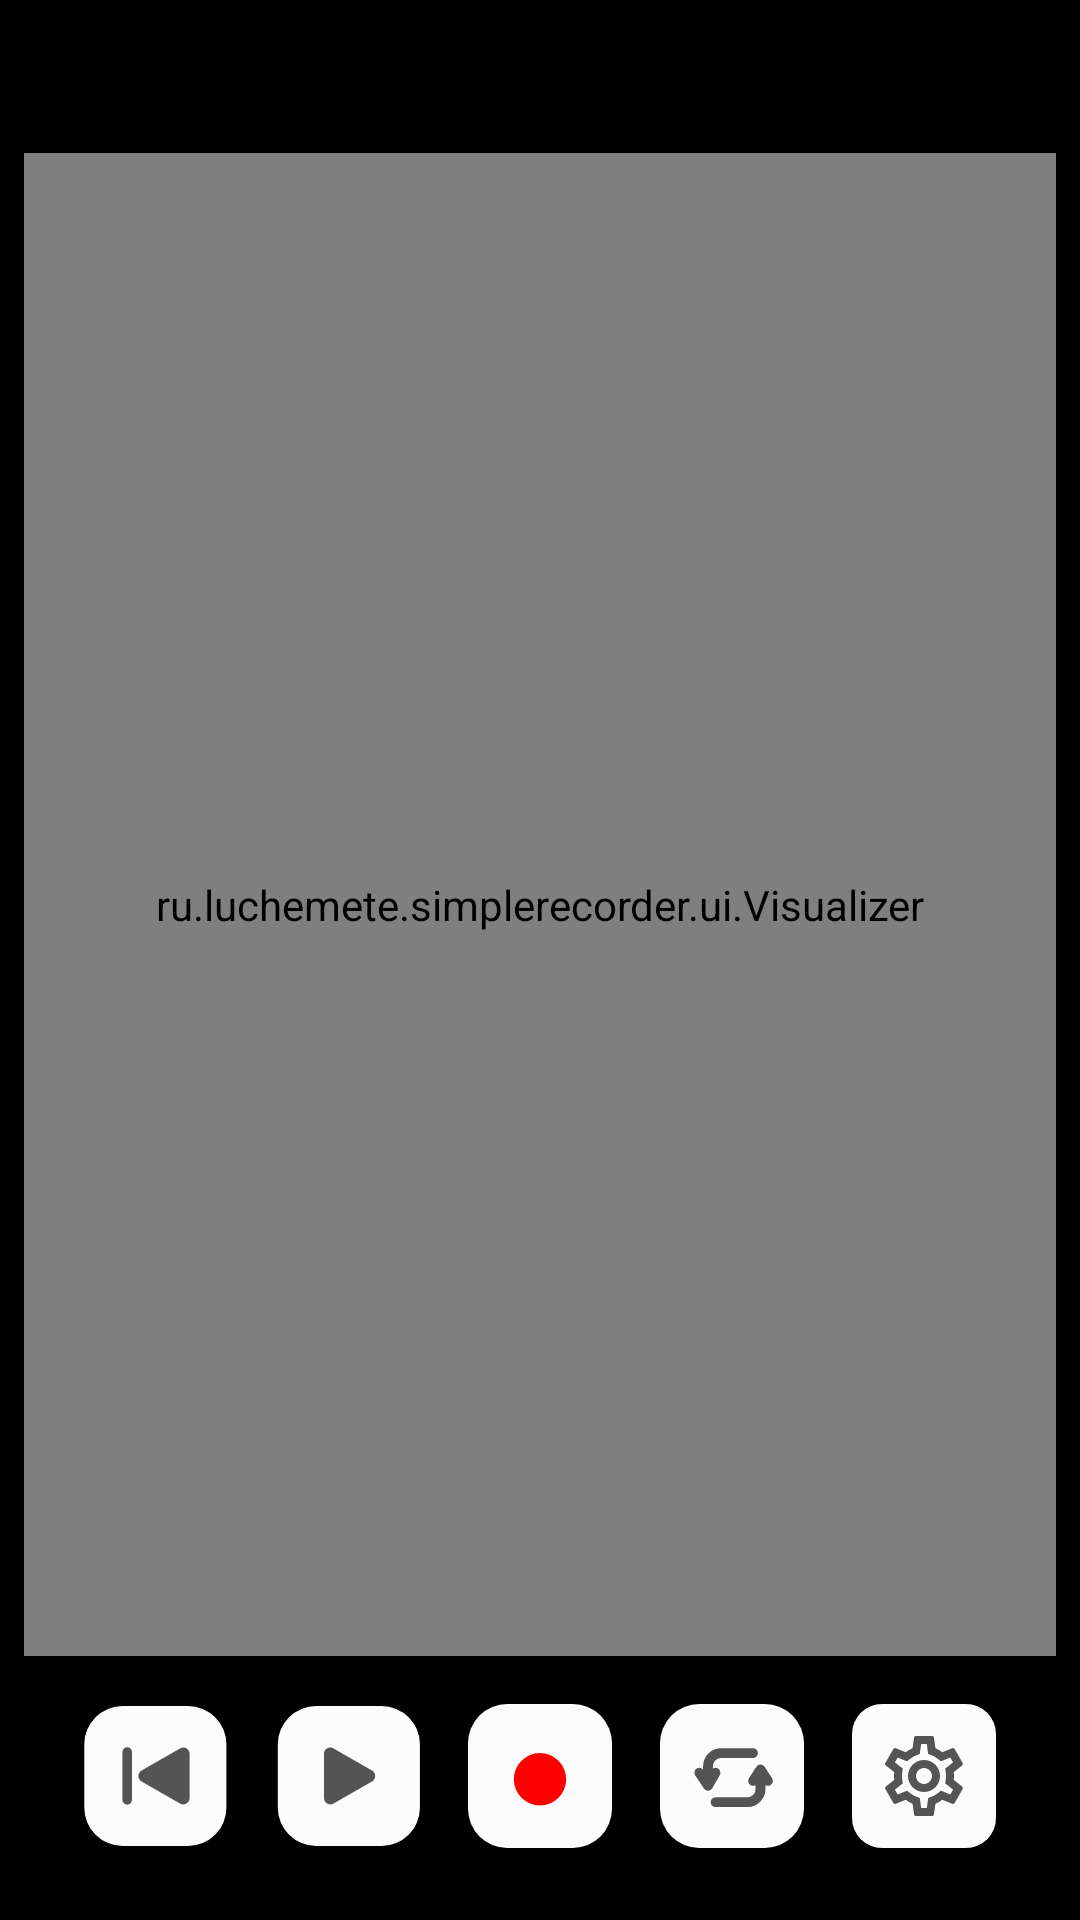

Where to tap for icons on this 1080*1920 app screen, as (x=x, y=y):
loop: (x=732, y=1776)
play: (x=348, y=1776)
record start: (x=540, y=1776)
rewind: (x=155, y=1776)
settings: (x=924, y=1776)
